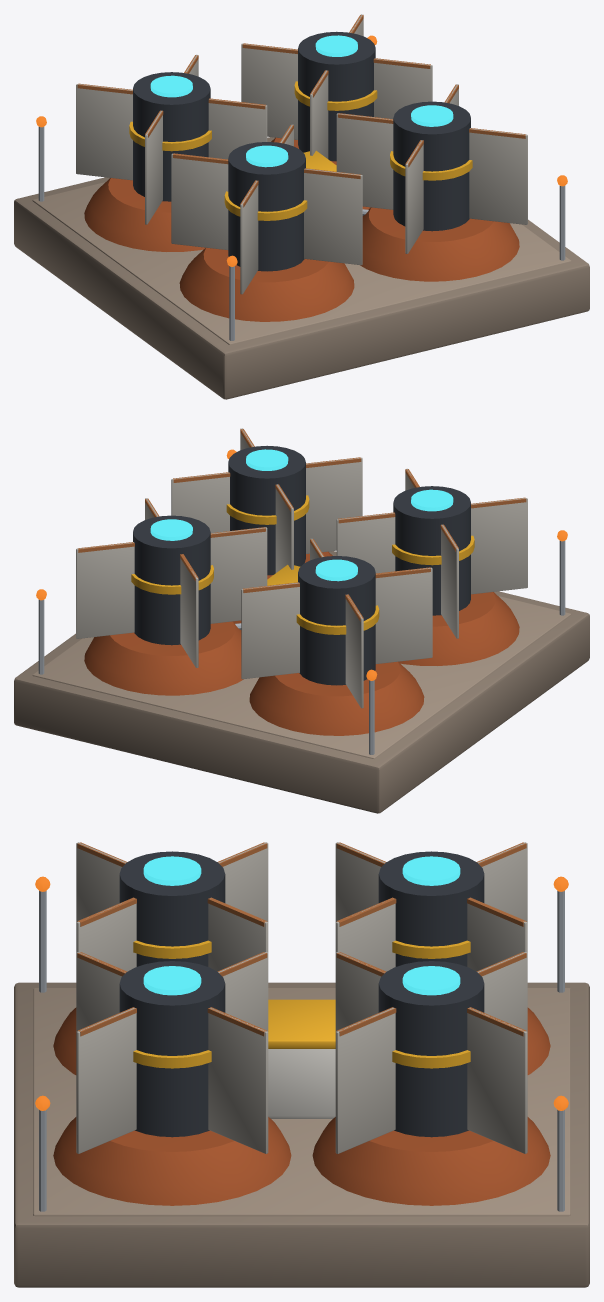
The model's file is fission_reactor.glb.
3 renders of one model, top to bottom at view 1: azimuth 30°, elevation 25°; view 2: azimuth 150°, elevation 25°; view 3: azimuth 270°, elevation 25°, orthographic. The views are drawn at different scales.
Visible parts, largest first — view 1: fission_reactor; view 2: fission_reactor; view 3: fission_reactor.
Boxes of the visible parts, x1,y1,x2,y2 form: fission_reactor: (14,14,589,399); fission_reactor: (14,428,589,813); fission_reactor: (14,842,589,1287).
Size of the model in its own units: 6 by 2.81 by 6.
